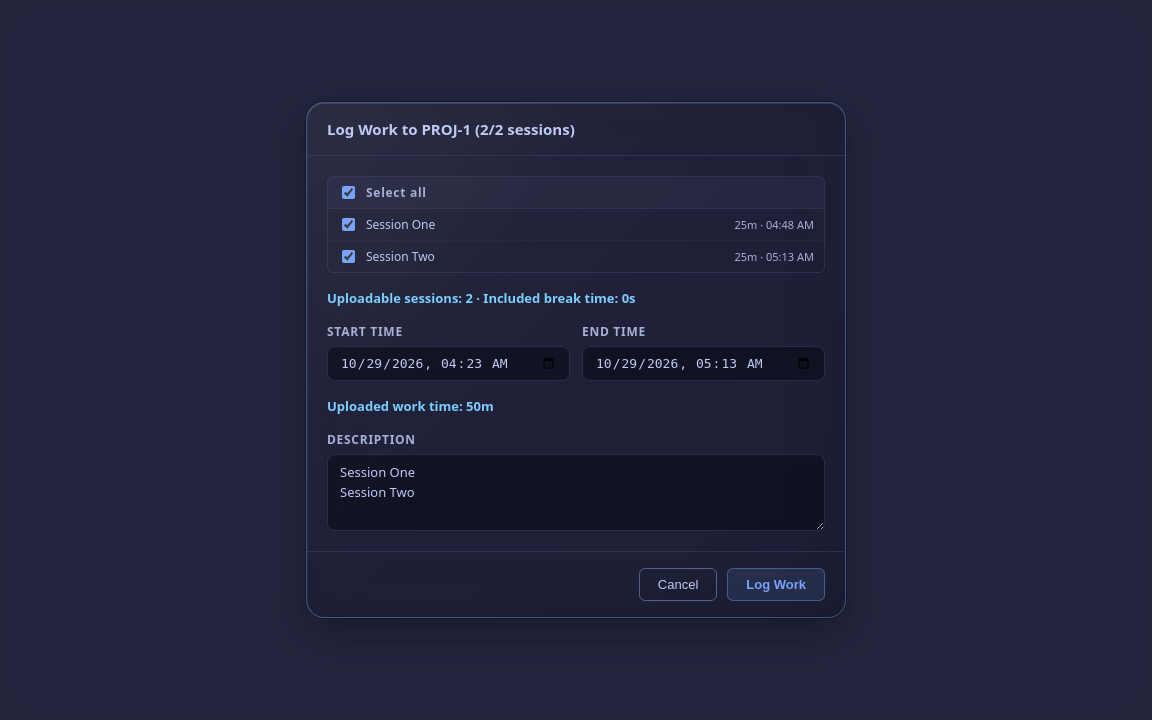
Scenario: WorklogConfirmDialog — bulk session mode › Confirm is disabled when no uploadable sessions are selected
This screenshot has width=1152, height=720.
// Deselect all via Select All toggle
Click the checkbox labelled "Select all" at (348, 193), box 342,186 -> 355,199
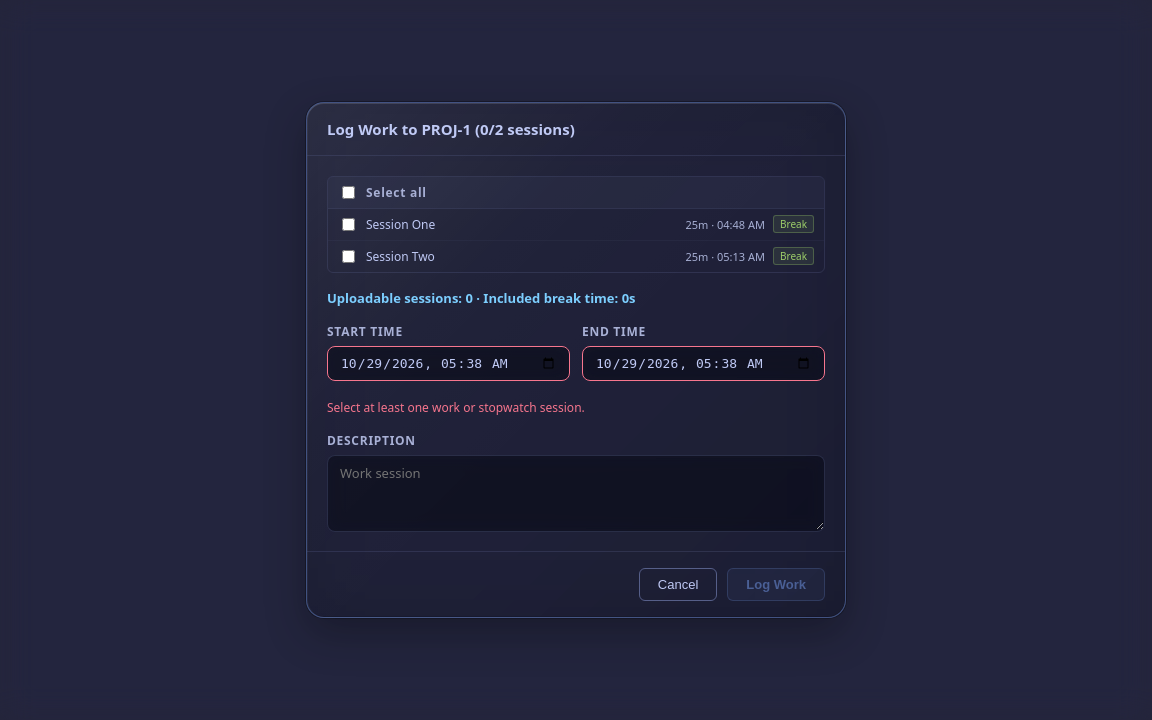
Result: the button "Log Work" is disabled at 727,568 -> 825,601
